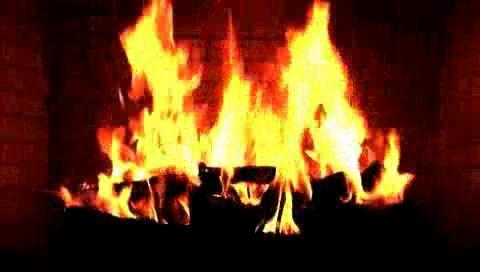fire: (101, 0, 378, 238)
